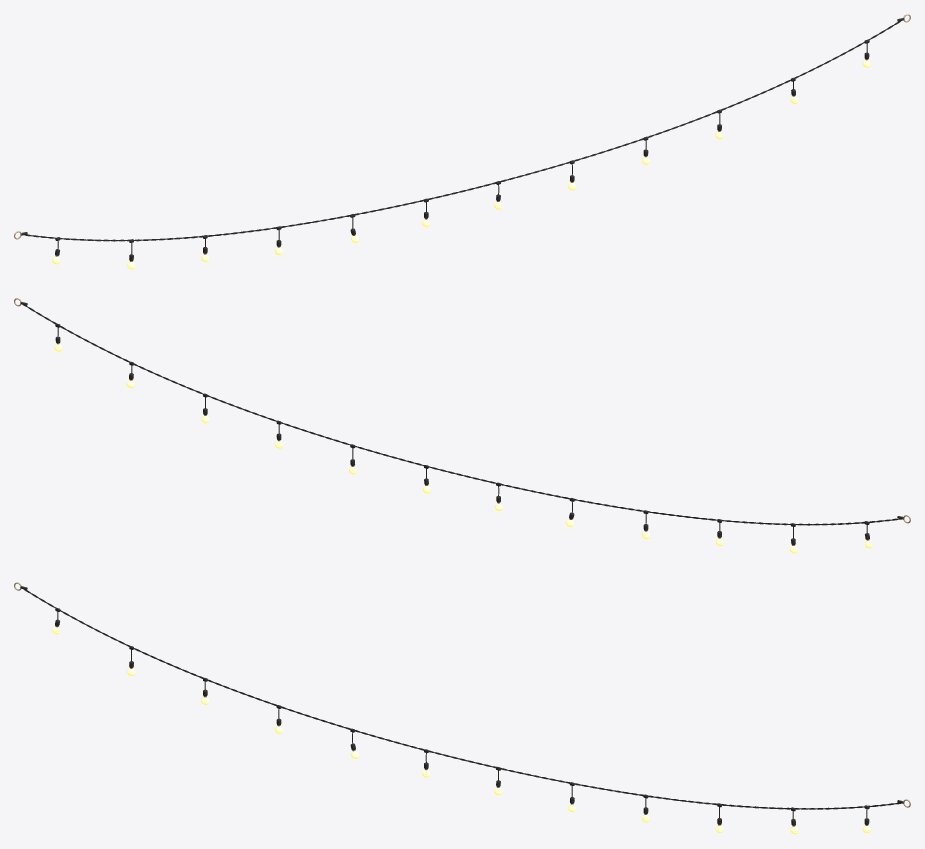
File: w3_flora_festoon.glb
3 views of the same model, one above another, from view 1: azimuth 30°, elevation 25°; view 2: azimuth 150°, elevation 25°; view 3: azimuth 330°, elevation 25° (orthographic).
Parts seen in each view (by area): view 1: w3_flora_festoon; view 2: w3_flora_festoon; view 3: w3_flora_festoon.
Boxes of the visible parts, left/top/right/bottom form: w3_flora_festoon: left=14, top=14, right=910, bottom=269; w3_flora_festoon: left=14, top=298, right=910, bottom=553; w3_flora_festoon: left=14, top=582, right=910, bottom=834.
Bounding box in the file's own units: 6.1 × 0.6204 × 0.0479.
